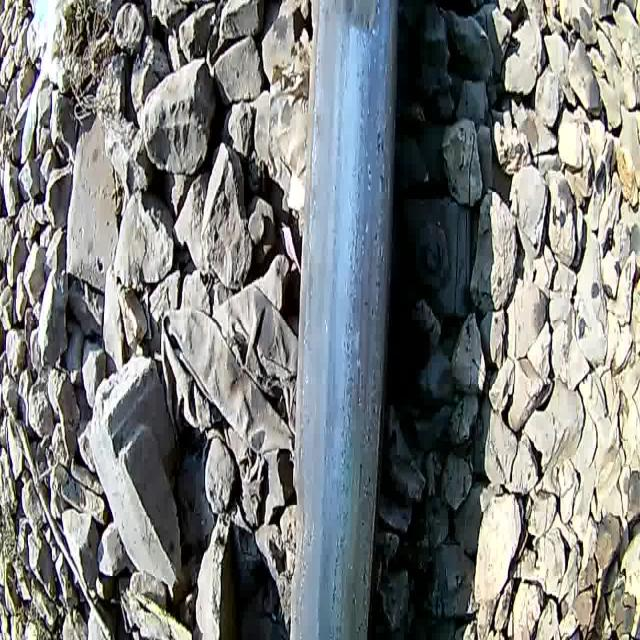Squats: (306, 0, 414, 49)
